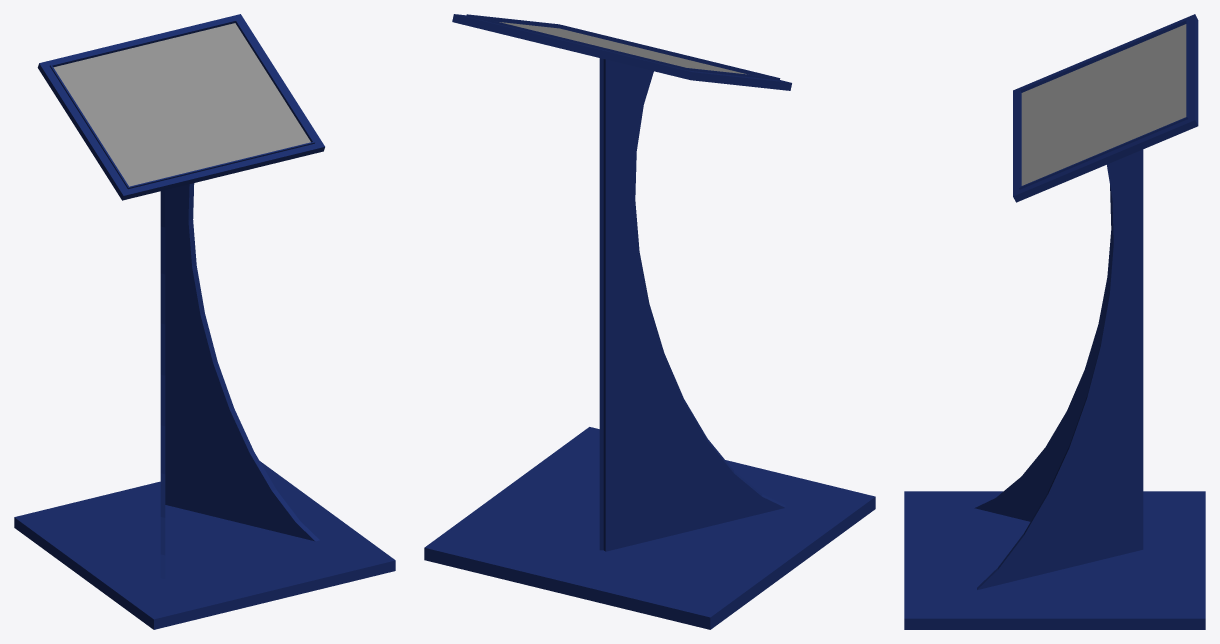
File: QR_Scanning_Hub.glb
The picture shows the model from 3 angles, left to right: view 1: azimuth 30°, elevation 25°; view 2: azimuth 150°, elevation 25°; view 3: azimuth 270°, elevation 25°; orthographic projection. The views are drawn at different scales.
Visible parts, largest first — view 1: 立方体.002, Cube, 立方体, 立方体.001; view 2: Cube, 立方体.001, 立方体.002, 立方体; view 3: Cube, 立方体, 立方体.002, 立方体.001.
Boxes of the visible parts, box(x1,y1,x2,y2) form: 立方体.002: box(37, 14, 324, 200); Cube: box(14, 461, 395, 629); 立方体: box(165, 183, 319, 541); 立方体.001: box(160, 190, 165, 578); Cube: box(424, 427, 875, 629); 立方体.001: box(603, 59, 785, 551); 立方体.002: box(452, 14, 791, 90); 立方体: box(599, 58, 603, 550); Cube: box(904, 491, 1205, 629); 立方体: box(977, 149, 1143, 589); 立方体.002: box(1013, 14, 1198, 202); 立方体.001: box(974, 185, 1113, 521).
Bounding box in the file's own units: 1.2 × 2.2 × 1.2.
